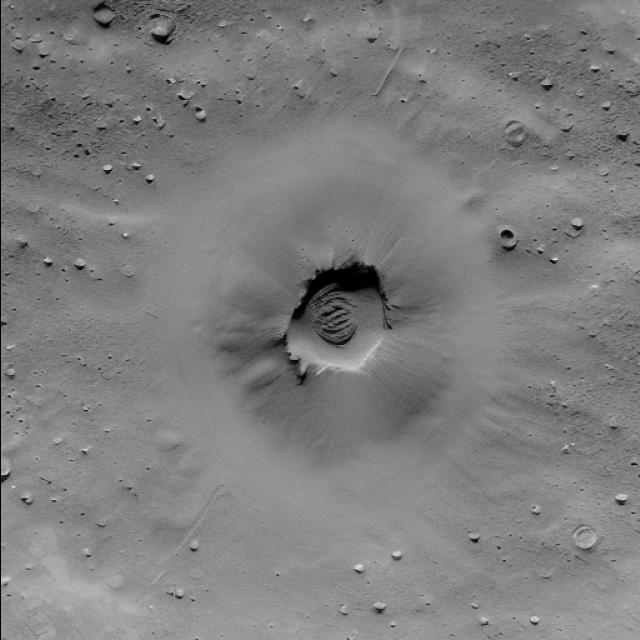crater: (279, 259, 394, 379)
